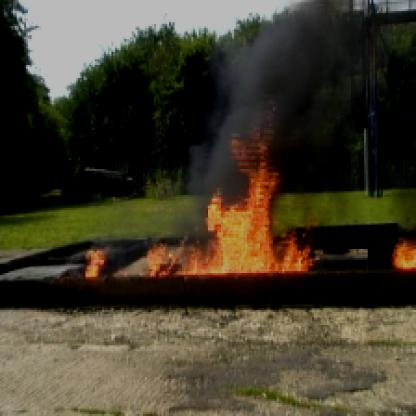Fire: (143, 108, 319, 278), (386, 228, 414, 270), (78, 250, 119, 278)
Smoke: (223, 2, 371, 128)
